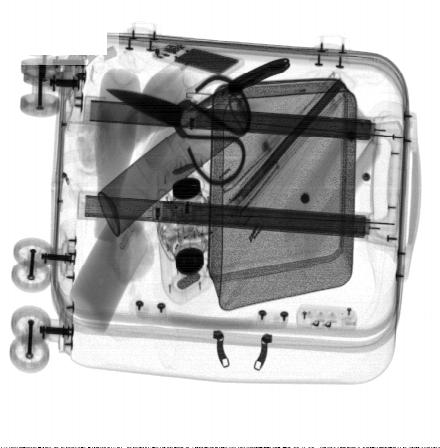Knife: (229, 55, 290, 96)
Powerbank: (154, 36, 245, 83)
Scissors: (103, 73, 252, 185)
Sprayer: (96, 75, 259, 239)
